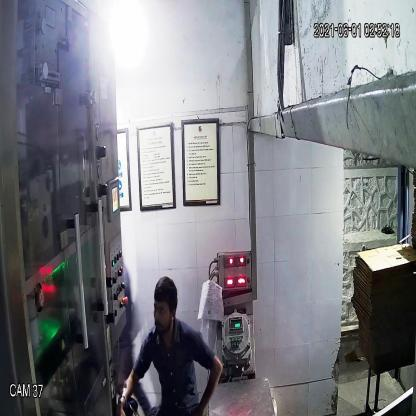no_goggles: (150, 298, 177, 320)
